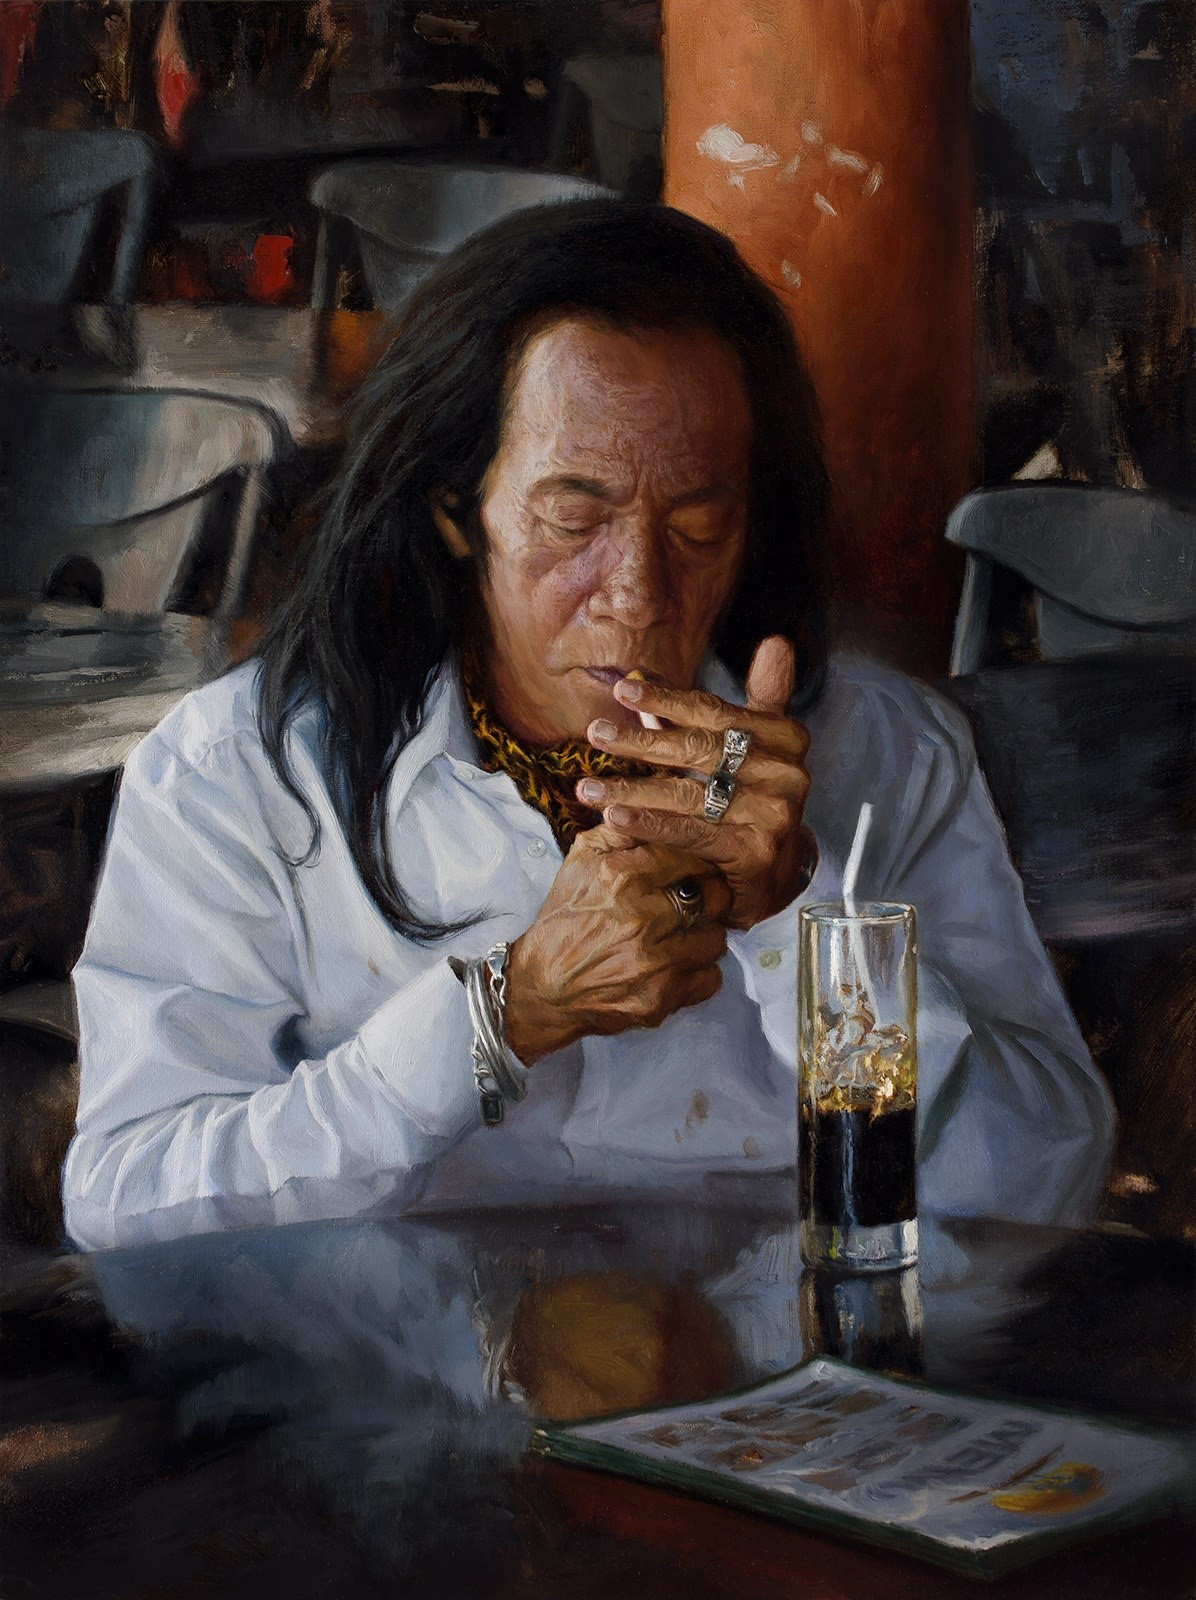face_no_mask: (396, 202, 774, 739)
